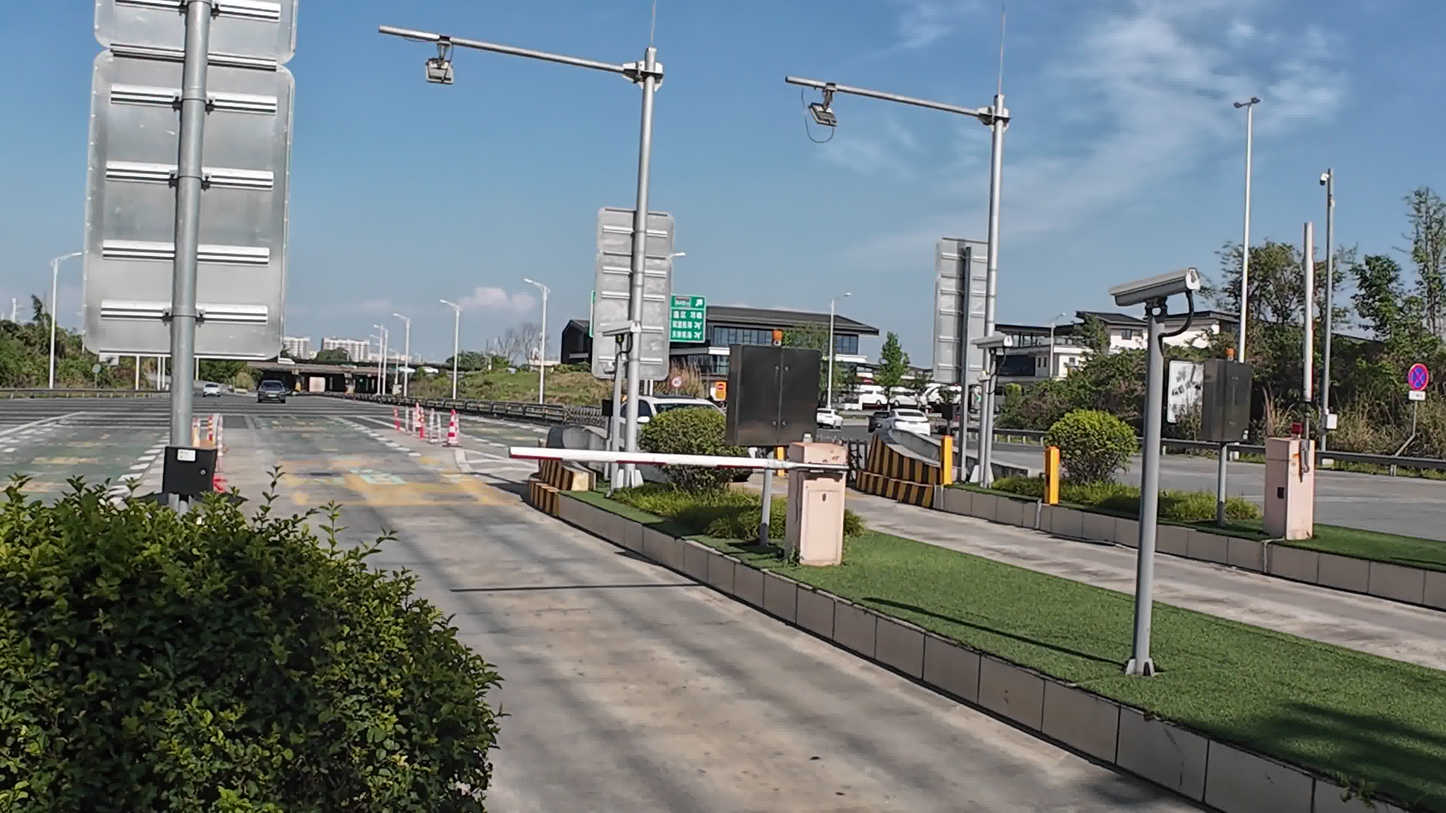lane_sign: (669, 292, 711, 348)
led_screen: (726, 348, 829, 442), (1188, 355, 1245, 456)
roadside_plant: (0, 510, 486, 813), (1232, 254, 1446, 464), (391, 341, 614, 415), (628, 404, 741, 497), (1053, 396, 1120, 487), (0, 303, 76, 374)
warning_sign: (71, 11, 291, 358), (587, 207, 669, 371), (494, 439, 855, 475), (933, 235, 994, 384), (1402, 353, 1434, 400)
